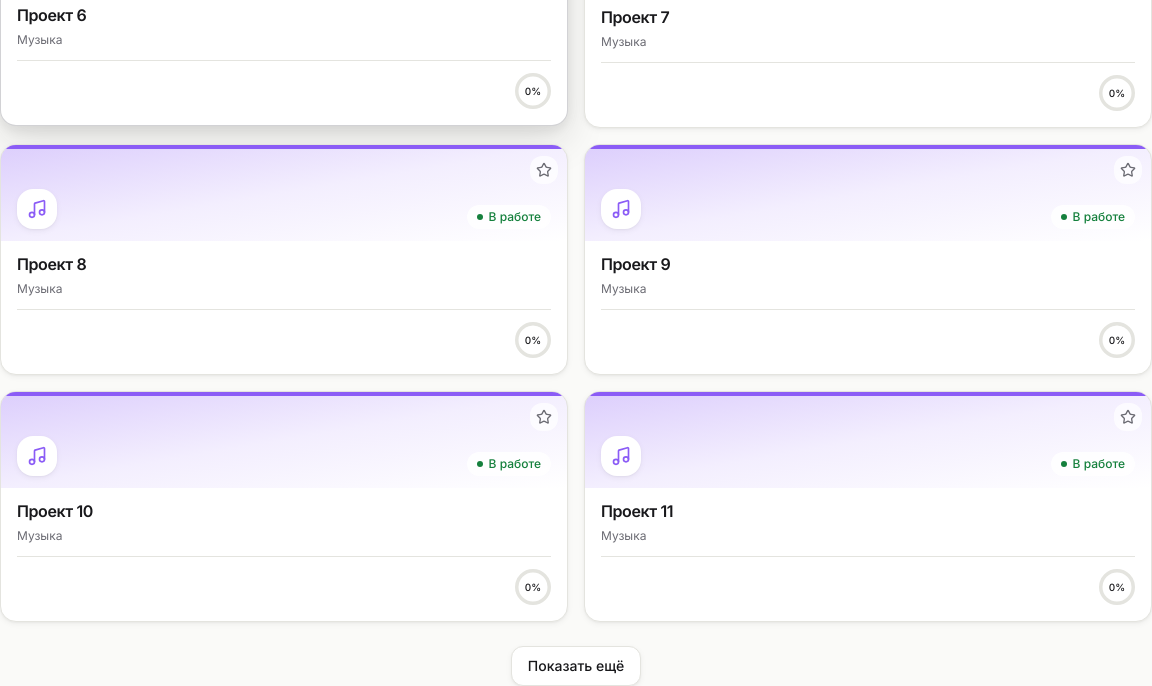
Test: Страница «Проекты»: фильтры ↔ адрес › «Показать ещё» догружает следующую страницу
The image size is (1152, 686).
(page scrolled)
Click the button "Показать ещё" at (576, 666), box [511,646,641,685]
(page scrolled)
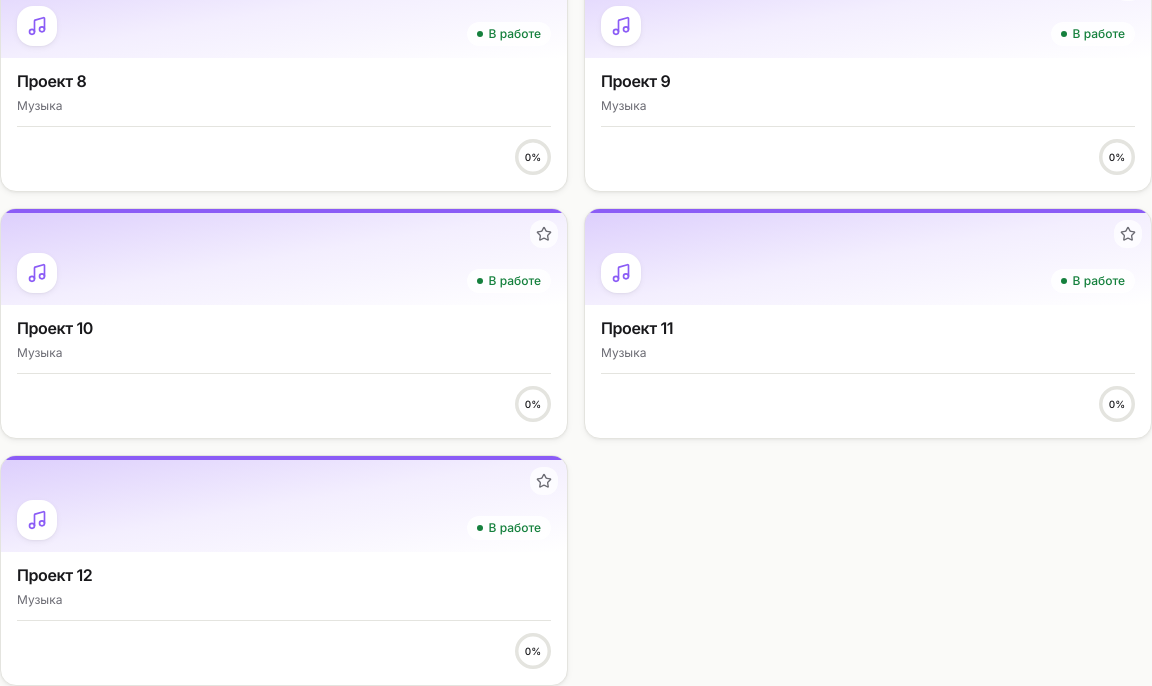
Now the heading "Проект 12" is shown, box [17,565,92,585]
Now the button "Показать ещё" is gone
